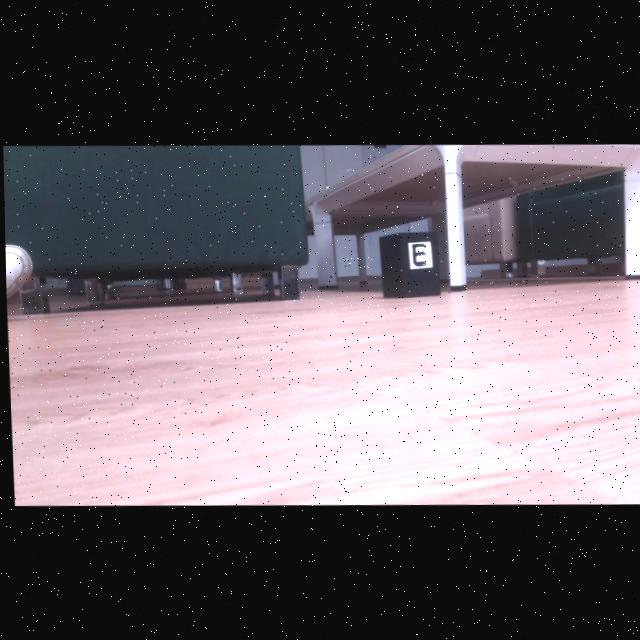E: (411, 243, 423, 263)
